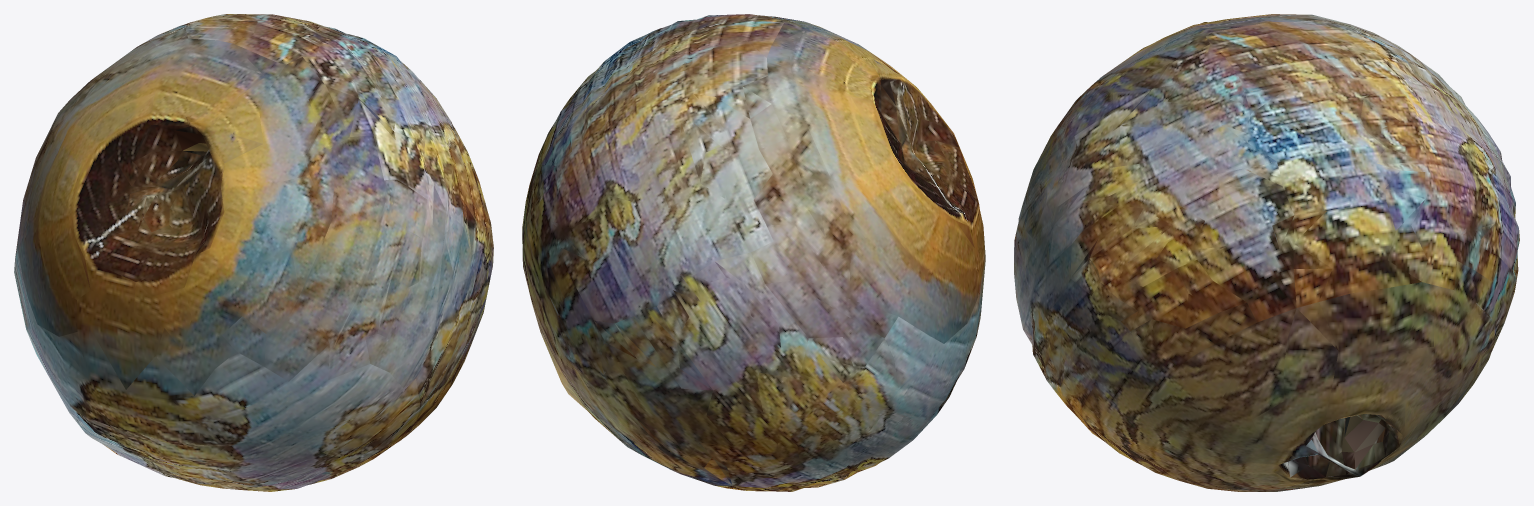
The model's file is AH2 ChanLim Landscape11.glb.
3 renders of one model, left to right at view 1: azimuth 30°, elevation 25°; view 2: azimuth 150°, elevation 25°; view 3: azimuth 270°, elevation 25°, orthographic. The views are drawn at different scales.
Size of the model in its own units: 967 by 971 by 1000.
1 material, 1 textured.
